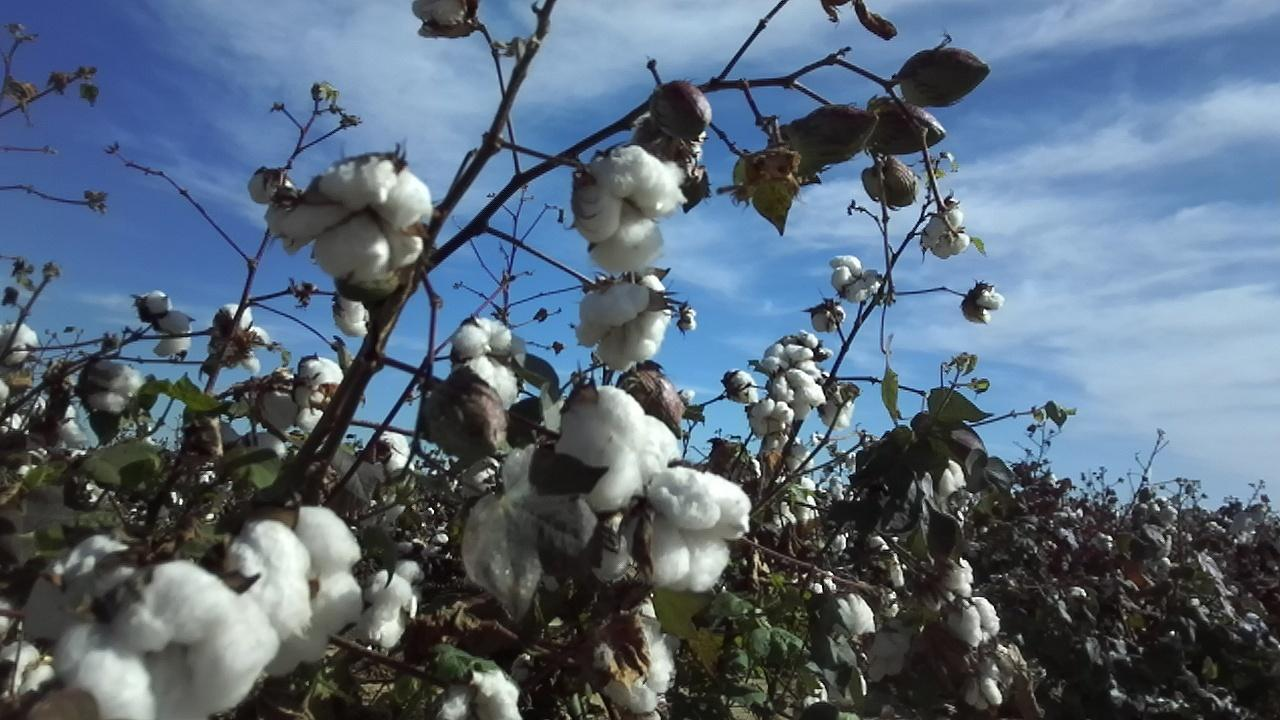cotton_ready: (27, 537, 279, 720), (231, 505, 365, 672), (275, 157, 432, 285), (559, 385, 678, 514), (575, 143, 689, 275), (637, 469, 753, 590), (572, 275, 668, 372), (591, 601, 672, 712), (454, 314, 525, 405), (369, 557, 417, 655), (437, 670, 527, 720), (295, 353, 346, 434), (410, 1, 481, 36)
